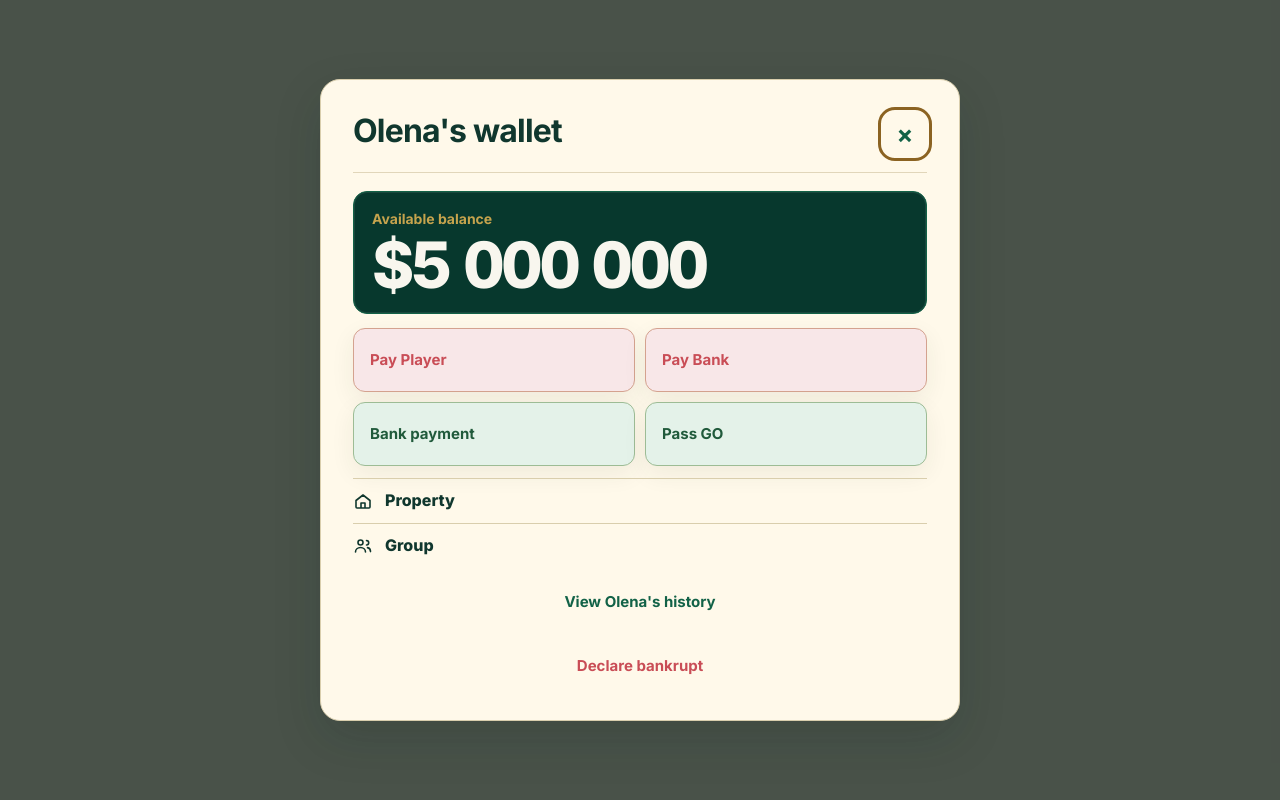
Scenario: BankingDialog amount entry › clears the amount with the clear button
Click the button "Pay Bank". click: [696, 360]
box: 645,328 -> 927,392
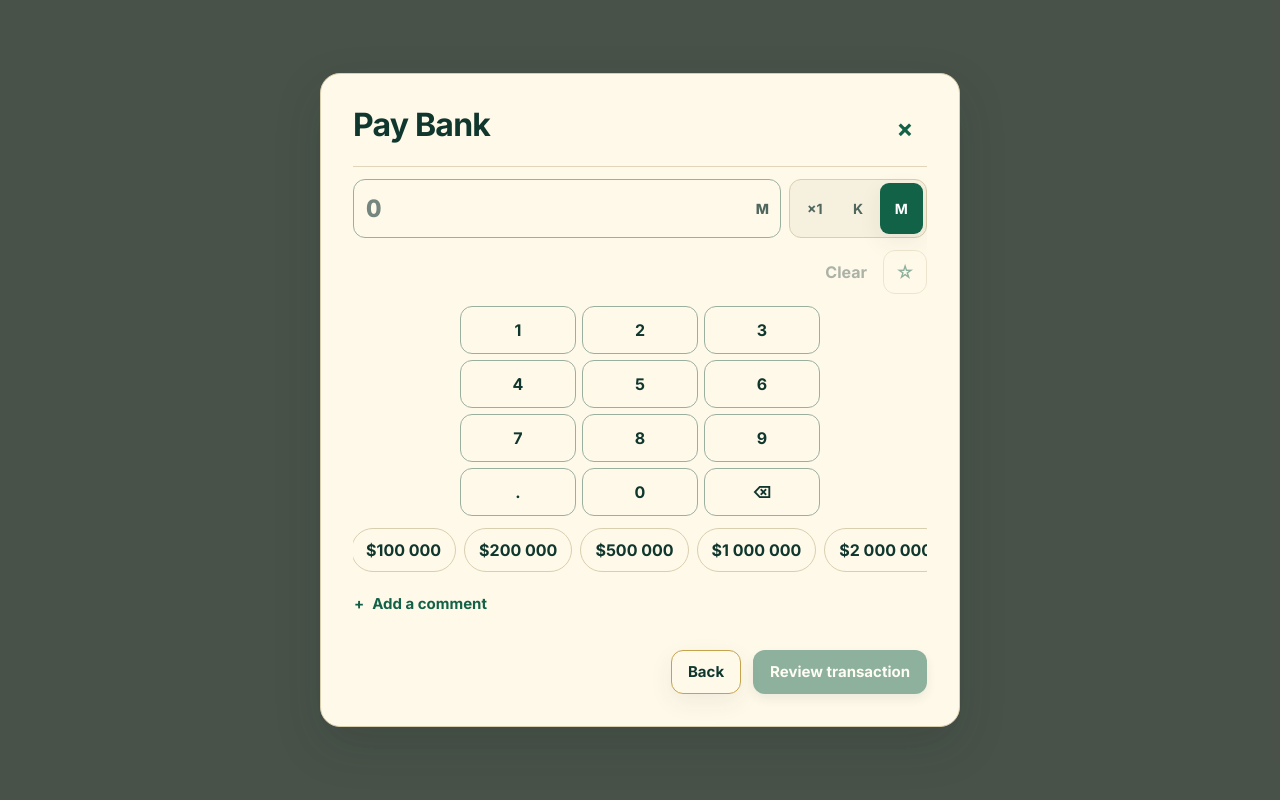
Check: the button "Clear" is disabled, box 817,250 -> 875,294
Click the button "7". click: [518, 438]
box: 460,414 -> 576,462
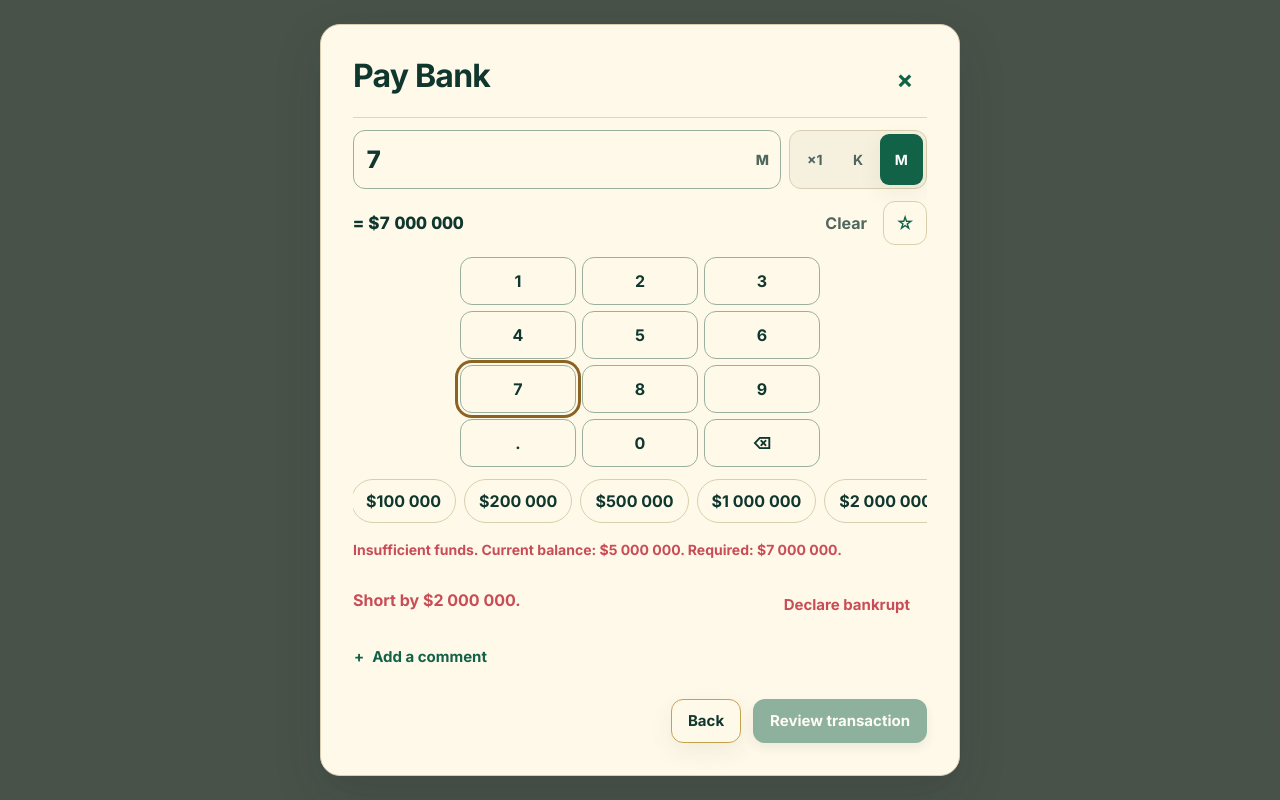
Click the button "Clear". click: [846, 223]
box: 817,201 -> 875,245
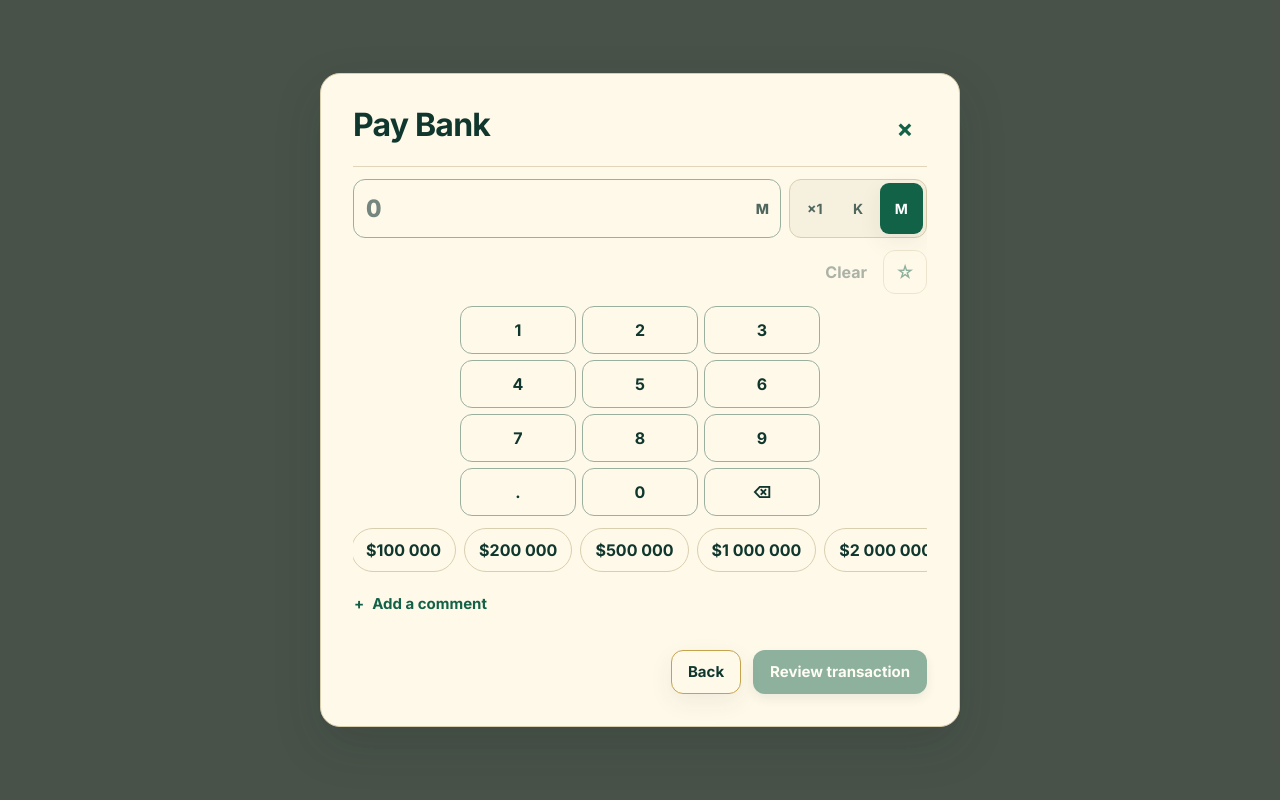
Check: the field named "Amount" is empty, box 353,179 -> 781,238
